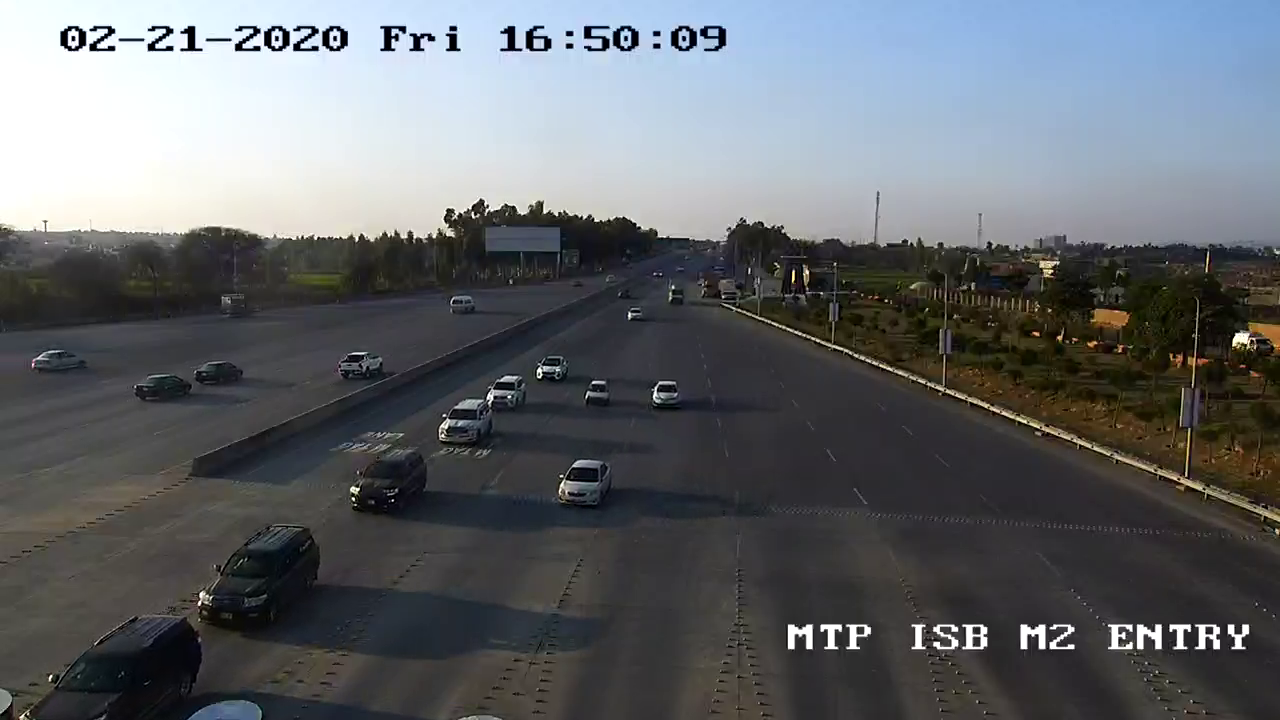f1: (183, 514, 328, 635), (343, 438, 432, 524), (549, 451, 622, 515), (426, 397, 499, 452)
